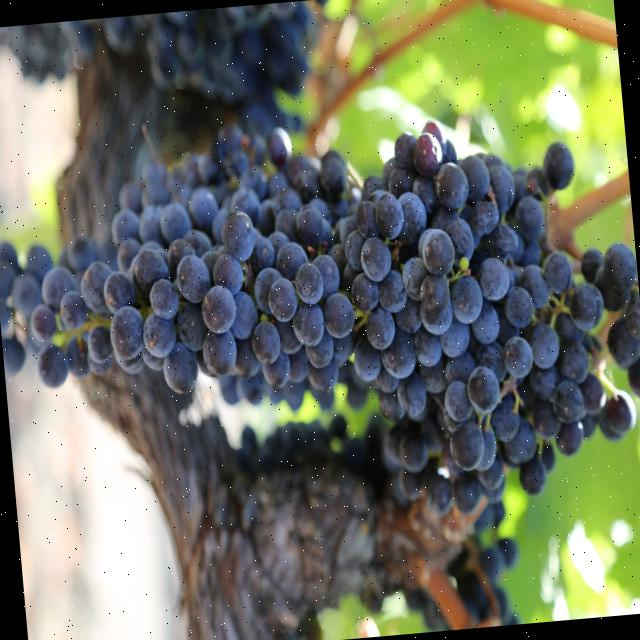grape: (0, 117, 640, 513)
